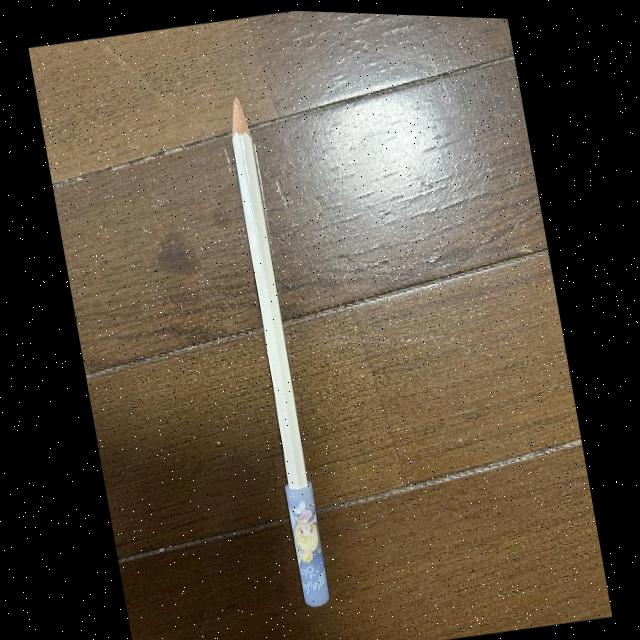pencil: (211, 83, 317, 491)
